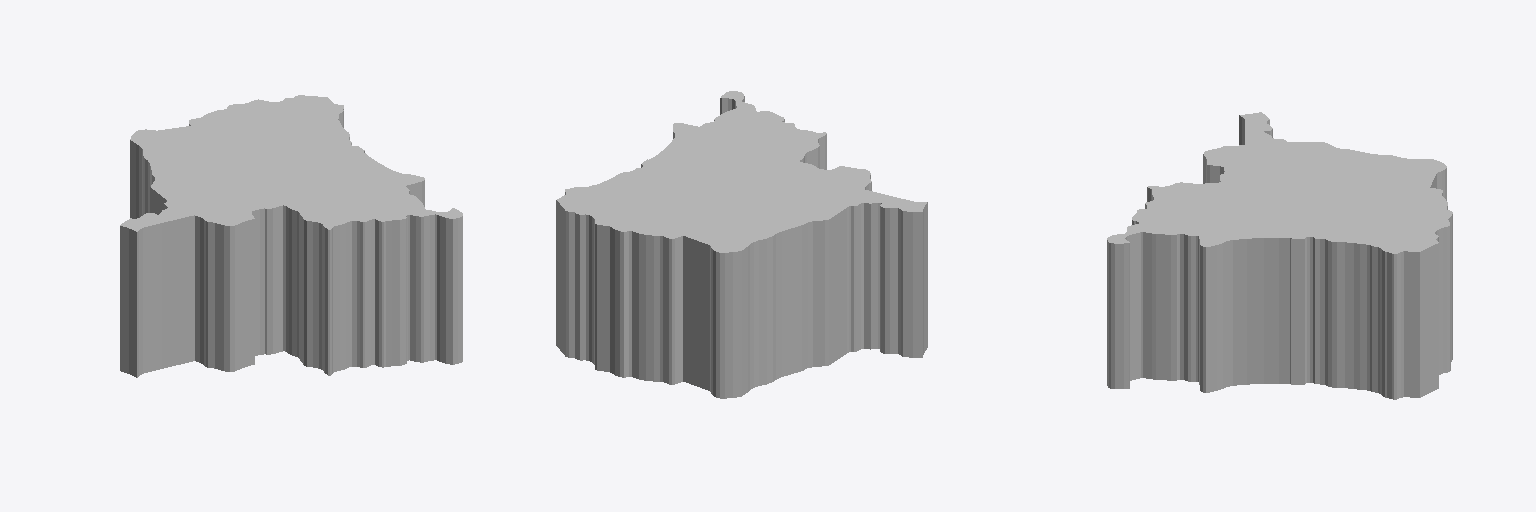
3 views of the same model, side by side, from view 1: azimuth 30°, elevation 25°; view 2: azimuth 150°, elevation 25°; view 3: azimuth 270°, elevation 25° (orthographic).
Parts seen in each view (by area): view 1: CD.002_CUCurve.1729; view 2: CD.002_CUCurve.1729; view 3: CD.002_CUCurve.1729.
Boxes of the visible parts, x1,y1,x2,y2 form: CD.002_CUCurve.1729: [120, 95, 462, 377]; CD.002_CUCurve.1729: [556, 91, 927, 398]; CD.002_CUCurve.1729: [1107, 112, 1452, 399].
Size of the model in its own units: 0.1042 by 0.05 by 0.1074.